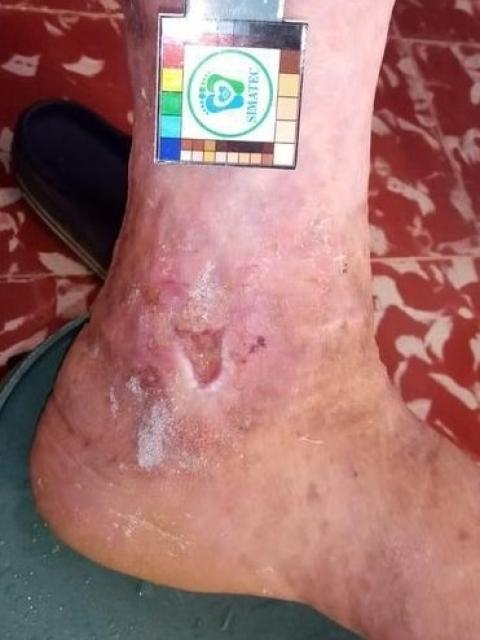wound: (100, 174, 170, 316), (77, 317, 176, 409), (170, 324, 227, 396)
